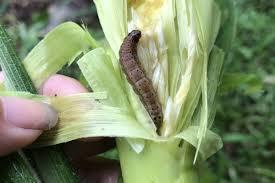fallarmy_worm: (115, 28, 169, 134)
